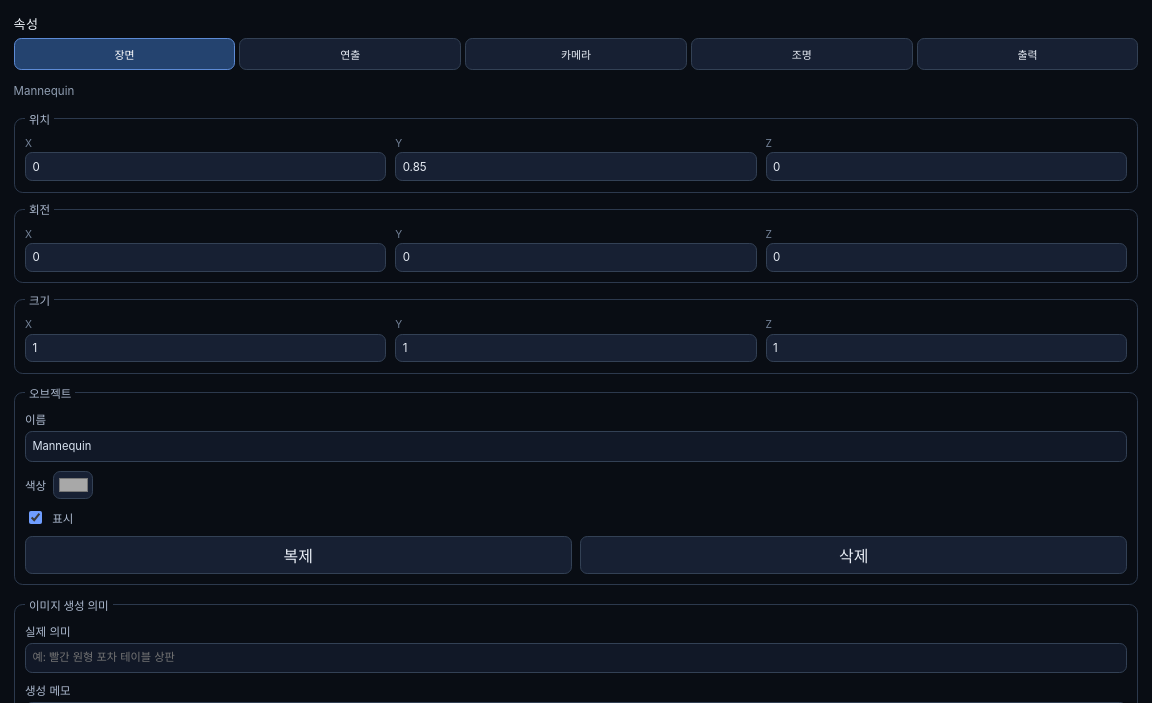
Inspector › 0 이하 scale draft를 거부하고 committed 값을 복원한다
This screenshot has width=1152, height=703.
Replace the text in the number field named "크기 X" with "0" at (206, 348), box [25,334,386,362]
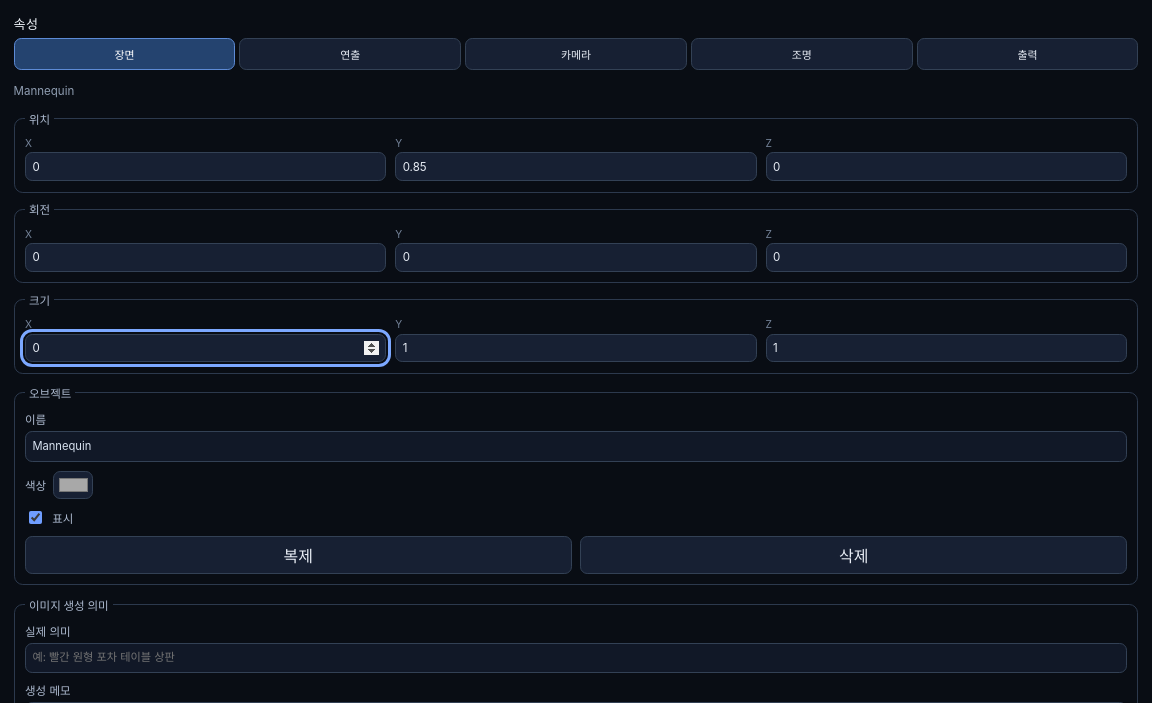
Leave the number field named "크기 X", box [25,334,386,362]
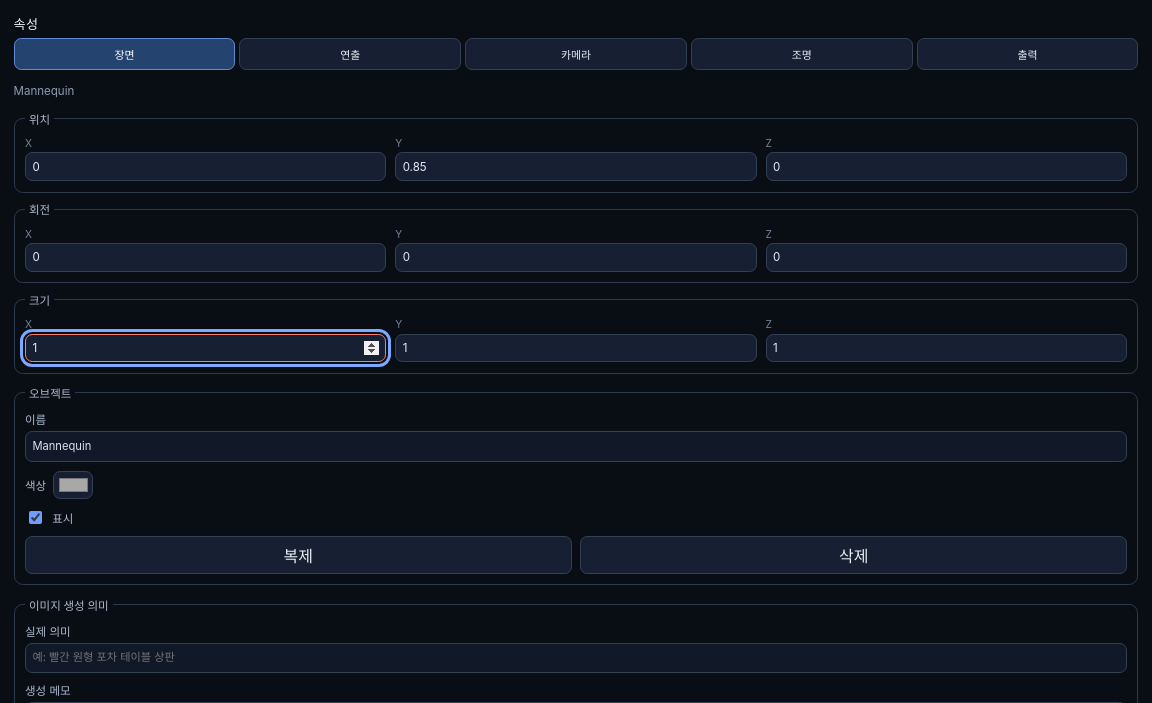
expect the number field named "크기 X" holds "1": met, box [25,334,386,362]
